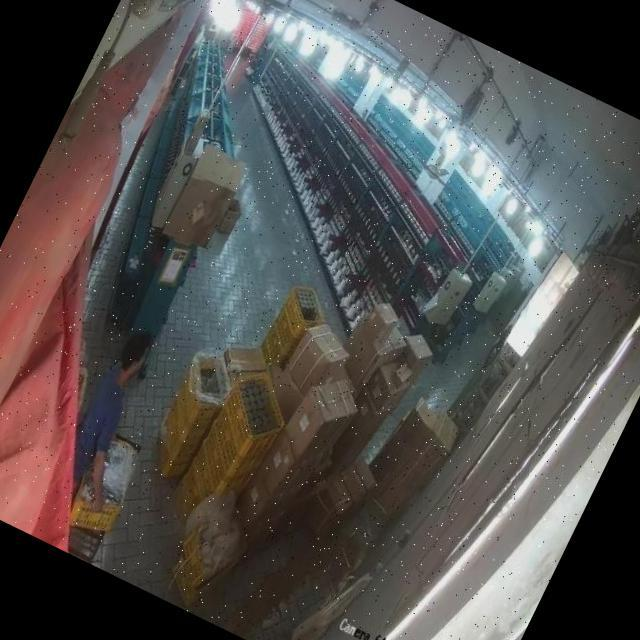person: (68, 326, 166, 470)
